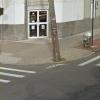Crosswalk: (1, 57, 35, 85)
